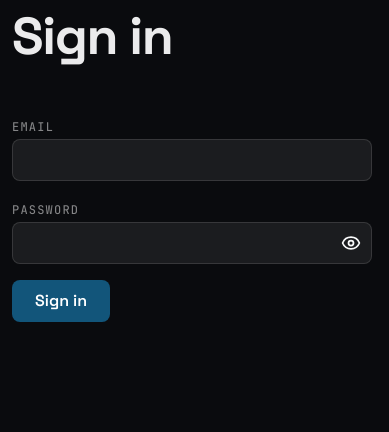
Test: LoginForm › shouldExplainHowToRecoverWhenCsrfRetryIsRejected
Type "user@example.com" into the field labelled "Email" at (192, 160), box [12,139,372,181]
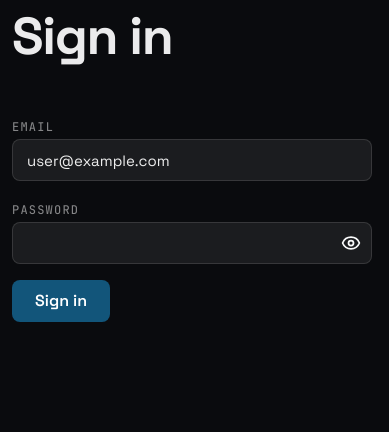
Type "correct horse battery staple" into the password field labelled "Password" at (192, 243), box [13,223,371,263]
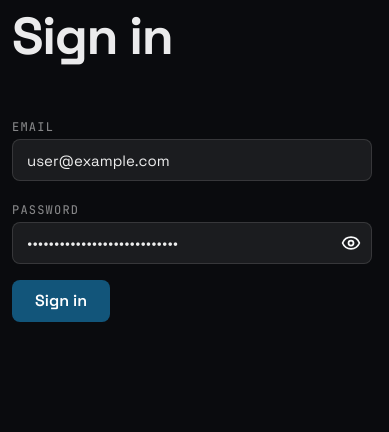
Click the button "Sign in" at (61, 301), box [12,280,110,322]
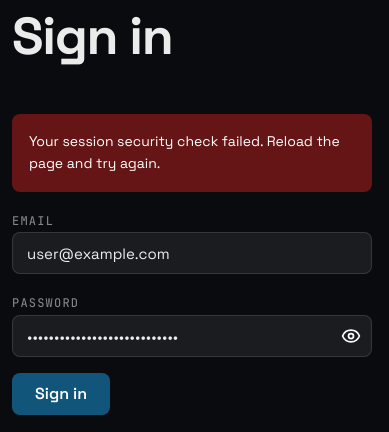
Expected: the message reads "Your session security check failed. Reload the page and try again.", [29,132,340,172]
